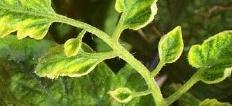Tomato leaf yellow virus: (33, 41, 106, 86), (183, 25, 232, 88), (0, 0, 62, 46), (110, 0, 170, 31), (156, 24, 183, 67)
